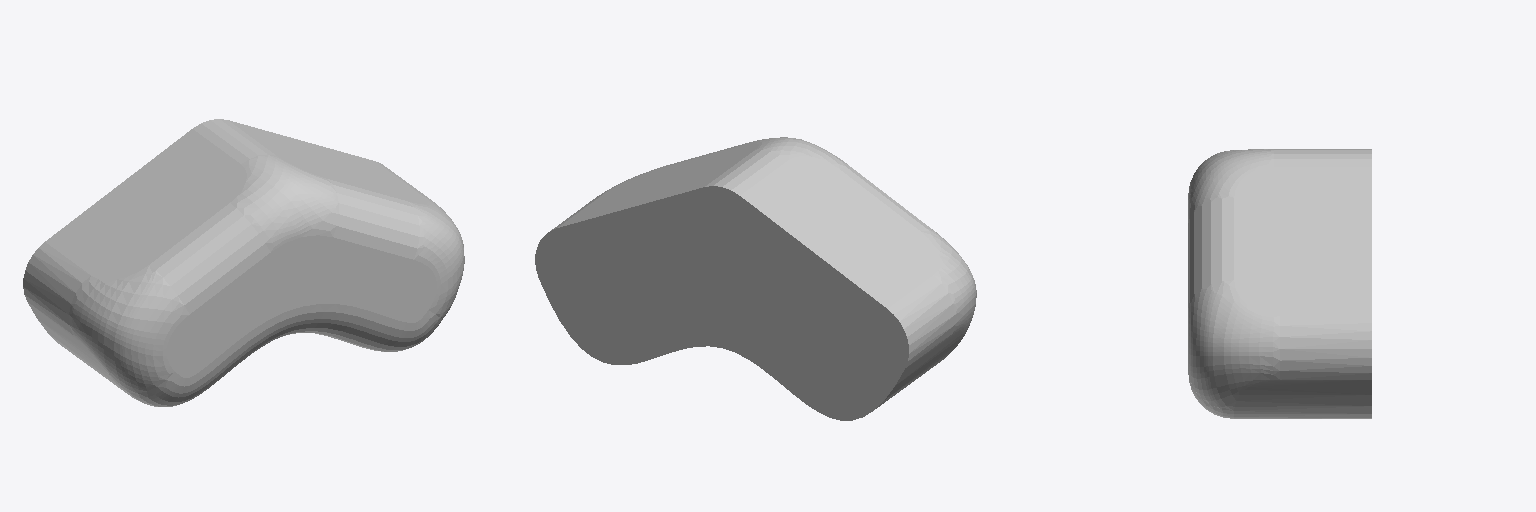
File: groups.obj
The picture shows the model from 3 angles: view 1: azimuth 30°, elevation 25°; view 2: azimuth 150°, elevation 25°; view 3: azimuth 270°, elevation 25°; orthographic projection.
Parts seen in each view (by area): view 1: mmGroup12, mmGroup13, mmGroup6, mmGroup8, mmGroup1, mmGroup9, mmGroup5, mmGroup10, mmGroup3, mmGroup7, mmGroup2, mmGroup11; view 2: mmGroup14, mmGroup13, mmGroup10, mmGroup7, mmGroup6, mmGroup2, mmGroup1, mmGroup11, mmGroup9; view 3: mmGroup10, mmGroup3, mmGroup4, mmGroup11, mmGroup5, mmGroup1, mmGroup2.
Part boxes in pixels (bbox=[...]): mmGroup12: bbox=[167, 235, 436, 377]; mmGroup13: bbox=[45, 129, 246, 279]; mmGroup6: bbox=[69, 265, 189, 392]; mmGroup8: bbox=[123, 304, 442, 406]; mmGroup1: bbox=[230, 154, 338, 251]; mmGroup9: bbox=[150, 203, 270, 313]; mmGroup5: bbox=[328, 179, 419, 259]; mmGroup10: bbox=[229, 120, 427, 203]; mmGroup3: bbox=[409, 195, 464, 318]; mmGroup7: bbox=[23, 242, 90, 334]; mmGroup2: bbox=[193, 119, 274, 163]; mmGroup11: bbox=[28, 302, 125, 392]; mmGroup14: bbox=[535, 186, 908, 420]; mmGroup13: bbox=[740, 156, 939, 308]; mmGroup10: bbox=[558, 143, 758, 227]; mmGroup7: bbox=[888, 276, 954, 367]; mmGroup6: bbox=[921, 227, 976, 348]; mmGroup2: bbox=[705, 150, 787, 195]; mmGroup1: bbox=[744, 137, 847, 168]; mmGroup11: bbox=[876, 330, 961, 408]; mmGroup9: bbox=[840, 165, 928, 230]; mmGroup10: bbox=[1234, 167, 1371, 315]; mmGroup3: bbox=[1188, 280, 1279, 410]; mmGroup4: bbox=[1280, 316, 1371, 379]; mmGroup11: bbox=[1234, 380, 1371, 418]; mmGroup5: bbox=[1188, 198, 1233, 307]; mmGroup1: bbox=[1188, 149, 1273, 225]; mmGroup2: bbox=[1274, 149, 1371, 166].
Bounding box in the file's own units: 9.43 × 4.94 × 4.